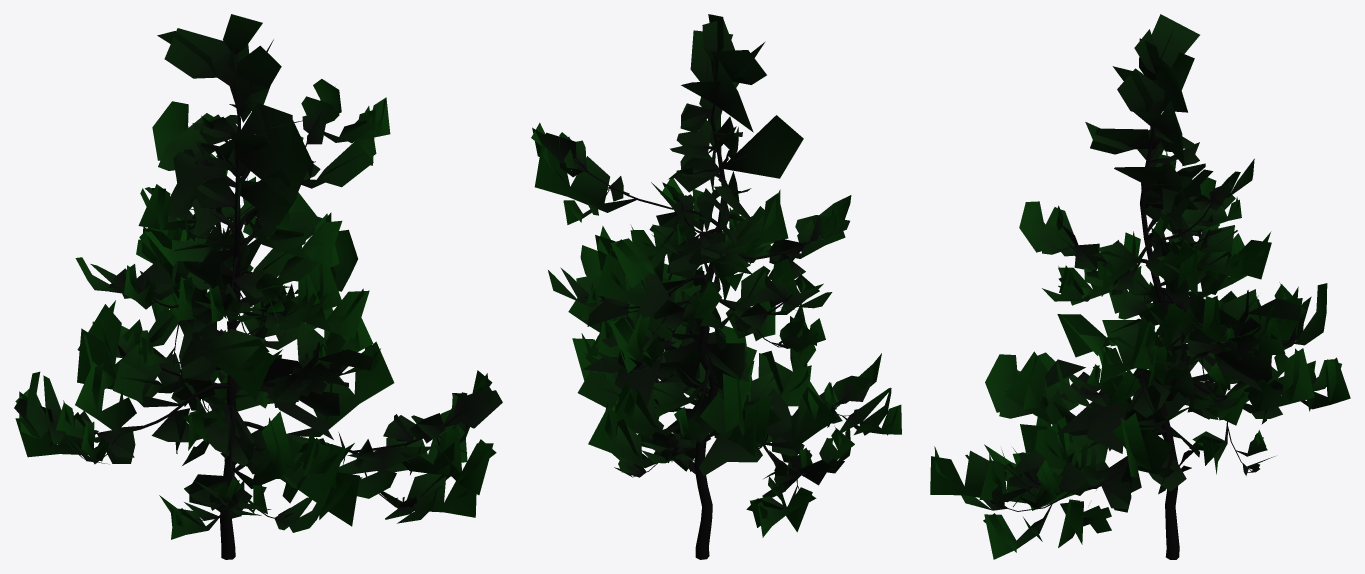
The model's file is Pine_beach_small_01.fbx.
3 renders of one model, left to right at view 1: azimuth 30°, elevation 25°; view 2: azimuth 150°, elevation 25°; view 3: azimuth 270°, elevation 25°, orthographic. The views are drawn at different scales.
Parts seen in each view (by area): view 1: pine_beach_small_01_LOD0; view 2: pine_beach_small_01_LOD0; view 3: pine_beach_small_01_LOD0.
Part boxes in pixels (bbox=[...]): pine_beach_small_01_LOD0: bbox=[14, 14, 502, 559]; pine_beach_small_01_LOD0: bbox=[531, 14, 901, 559]; pine_beach_small_01_LOD0: bbox=[930, 14, 1350, 559].
Size of what is drawn, in the model's own units: 312 by 437 by 317.
